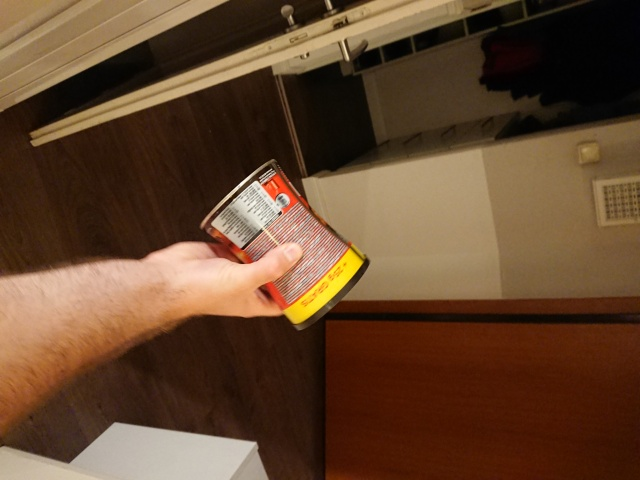Nescafe Classic 225g: (197, 155, 373, 334)
